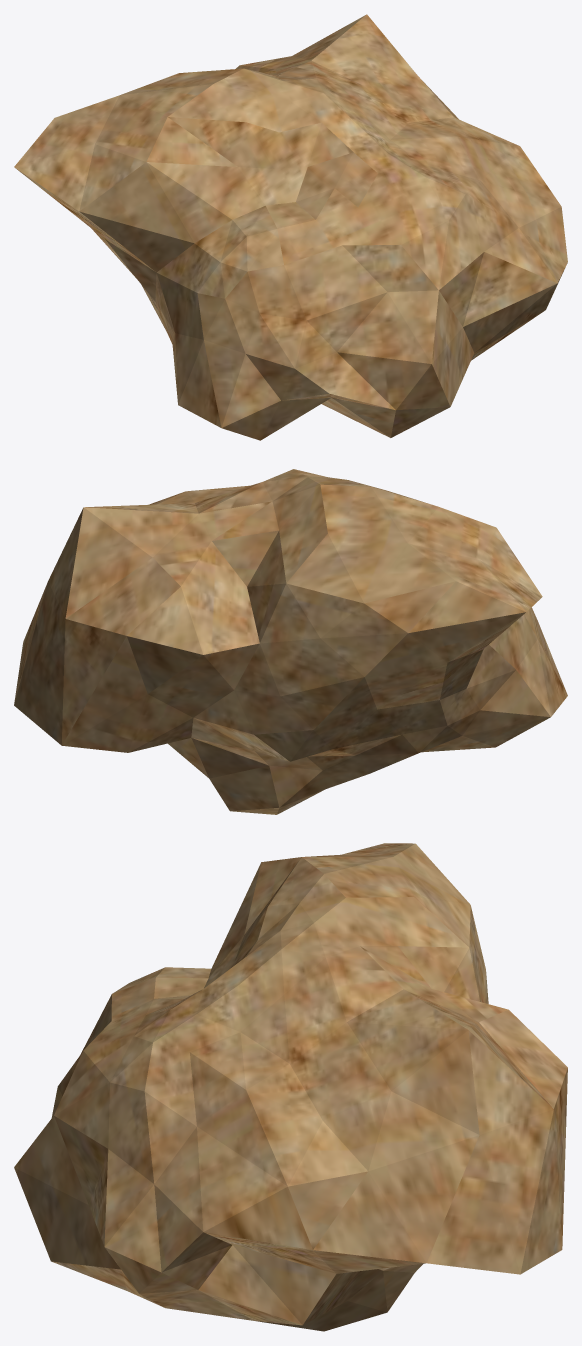
The model's file is asteroids1.glb.
3 views of the same model, one above another, from view 1: azimuth 30°, elevation 25°; view 2: azimuth 150°, elevation 25°; view 3: azimuth 270°, elevation 25° (orthographic). The views are drawn at different scales.
Parts seen in each view (by area): view 1: Икосфера; view 2: Икосфера; view 3: Икосфера.
Boxes of the visible parts, x1,y1,x2,y2 form: Икосфера: (14, 14, 567, 440); Икосфера: (14, 469, 567, 814); Икосфера: (14, 843, 567, 1331).
Size of the model in its own units: 36 by 23.63 by 30.98.
Materials: 1 (1 with a texture image).
